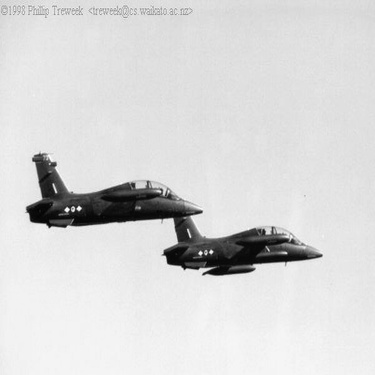airplane: (9, 135, 212, 235), (140, 194, 336, 293)
